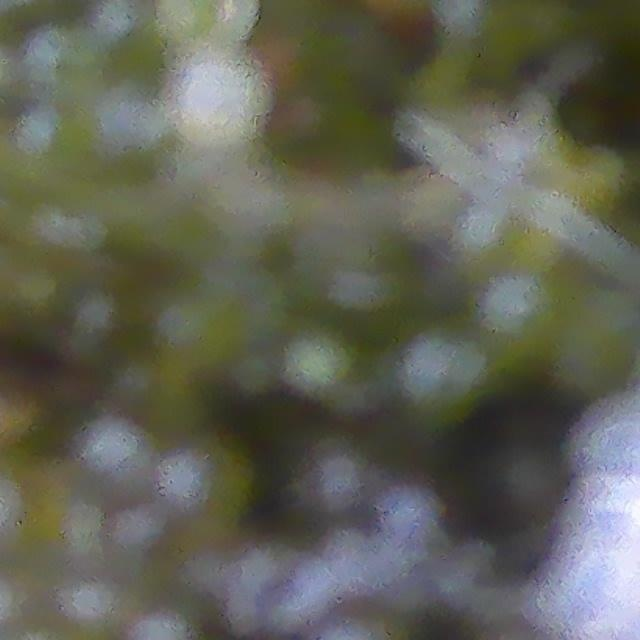SeaGrape: (391, 326, 492, 423), (69, 412, 163, 505), (478, 267, 570, 358), (158, 441, 250, 532), (168, 55, 266, 138), (573, 539, 640, 624), (587, 467, 640, 546)
